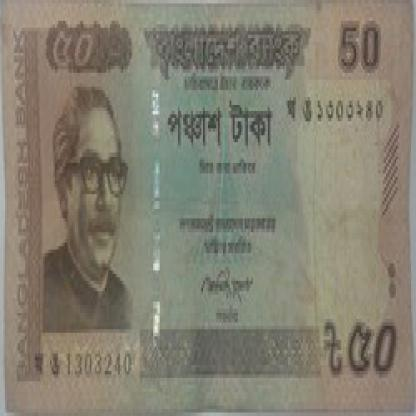Fifty taka: (348, 319, 402, 388), (45, 28, 100, 86)
